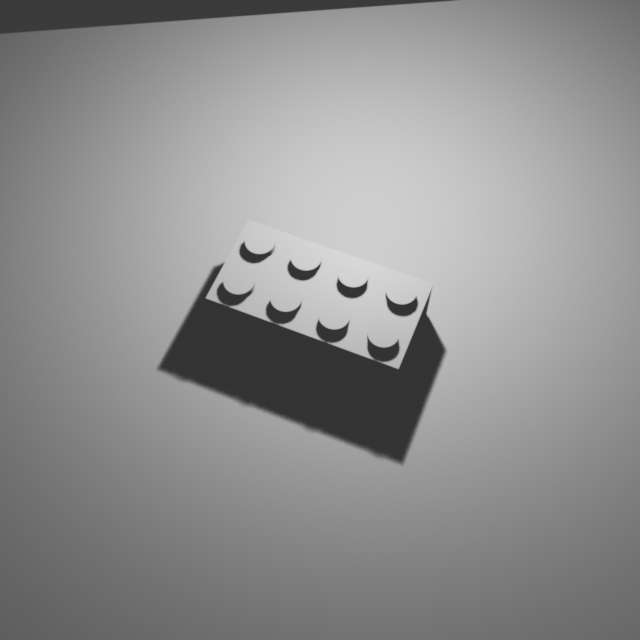lego_2x4: (205, 214, 434, 395)
